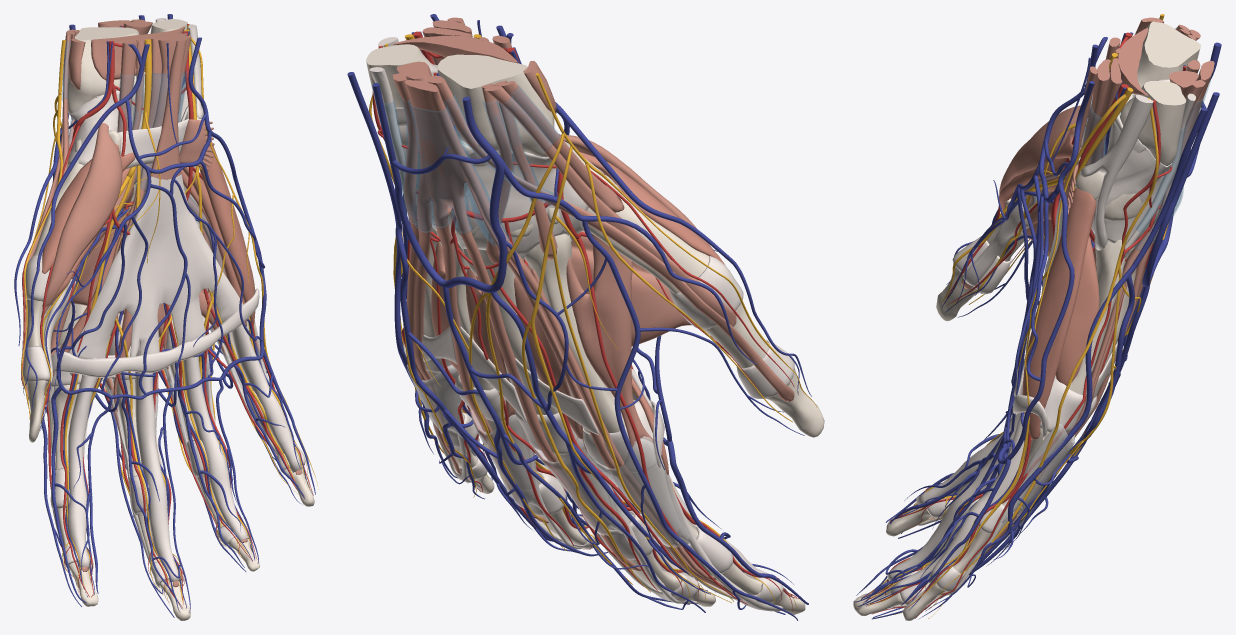
Rendered from hand.glb.
3 renders of one model, left to right at view 1: azimuth 30°, elevation 25°; view 2: azimuth 150°, elevation 25°; view 3: azimuth 270°, elevation 25°, orthographic. The views are drawn at different scales.
Parts seen in each view (by area): view 1: Aponeurosis palmaris, Fibrous sheath of digits of hand, Palmar venous network of hand, Palmal digital veins, Abductor pollicis brevis, Palmar metacarpal veins, Superficial transverse metacarpal ligament, Proper palmar digital arteries, Abductor digiti minimi, Dorsal digital veins, Radius, Palmaris longus muscle (+48 smaller); view 2: Extensor digitorum, Dorsal digital veins, Dorsal metatarsal veins, Radial nerve Dorsal digital nn, Extensor digitorum - Extensor indicis tendon sheath, 1st dorsal interosseus of hand, Dorsal venous network of hand, Articular capsules of metacarpophalangeal joints, Articular capsule of radiocarpal joint, Radius, Extensor pollicis longus, Extensor hood of 2nd finger (+49 smaller); view 3: Palmar venous network of hand, Abductor digiti minimi, Fibrous sheath of digits of hand, Palmal digital veins, Dorsal digital veins, Articular capsule of radiocarpal joint, Common tendon of flexor carpi ulnaris, Opponens digiti minimi muscle of hand, Ulna, Radius, Ulnar nerve Dorsal cutaneous br, Dorsal metatarsal veins (+36 smaller).
Boxes of the visible parts, left/top/right/bottom form: Aponeurosis palmaris: left=68, top=174, right=243, bottom=359; Fibrous sheath of digits of hand: left=67, top=322, right=301, bottom=582; Palmar venous network of hand: left=36, top=43, right=266, bottom=399; Palmal digital veins: left=23, top=268, right=315, bottom=612; Abductor pollicis brevis: left=42, top=123, right=122, bottom=307; Palmar metacarpal veins: left=40, top=218, right=312, bottom=609; Superficial transverse metacarpal ligament: left=51, top=288, right=259, bottom=377; Proper palmar digital arteries: left=64, top=304, right=313, bottom=607; Abductor digiti minimi: left=199, top=130, right=255, bottom=325; Dorsal digital veins: left=14, top=273, right=309, bottom=617; Radius: left=67, top=27, right=145, bottom=113; Palmaris longus muscle: left=150, top=39, right=186, bottom=179; Extensor digitorum: left=404, top=80, right=716, bottom=580; Dorsal digital veins: left=399, top=299, right=804, bottom=620; Dorsal metatarsal veins: left=394, top=215, right=720, bottom=449; Radial nerve Dorsal digital nn: left=469, top=132, right=817, bottom=602; Extensor digitorum - Extensor indicis tendon sheath: left=408, top=100, right=510, bottom=245; 1st dorsal interosseus of hand: left=566, top=233, right=652, bottom=447; Dorsal venous network of hand: left=365, top=116, right=580, bottom=292; Articular capsules of metacarpophalangeal joints: left=416, top=256, right=743, bottom=472; Articular capsule of radiocarpal joint: left=398, top=65, right=603, bottom=259; Radius: left=437, top=54, right=554, bottom=157; Extensor pollicis longus: left=426, top=75, right=794, bottom=401; Extensor hood of 2nd finger: left=587, top=436, right=691, bottom=547; Palmar venous network of hand: left=997, top=57, right=1090, bottom=464; Abductor digiti minimi: left=1022, top=188, right=1096, bottom=439; Fibrous sheath of digits of hand: left=887, top=412, right=1031, bottom=595; Palmal digital veins: left=853, top=180, right=1012, bottom=606; Dorsal digital veins: left=872, top=240, right=1103, bottom=619; Articular capsule of radiocarpal joint: left=1080, top=79, right=1171, bottom=251; Common tendon of flexor carpi ulnaris: left=1080, top=94, right=1153, bottom=250; Opponens digiti minimi muscle of hand: left=1055, top=236, right=1099, bottom=385; Ulna: left=1120, top=81, right=1186, bottom=165; Radius: left=1132, top=21, right=1200, bottom=95; Ulnar nerve Dorsal cutaneous br: left=880, top=98, right=1158, bottom=618; Dorsal metatarsal veins: left=1075, top=265, right=1150, bottom=448.
Size of the model in its own units: 0.1097 by 0.1855 by 0.1028.
